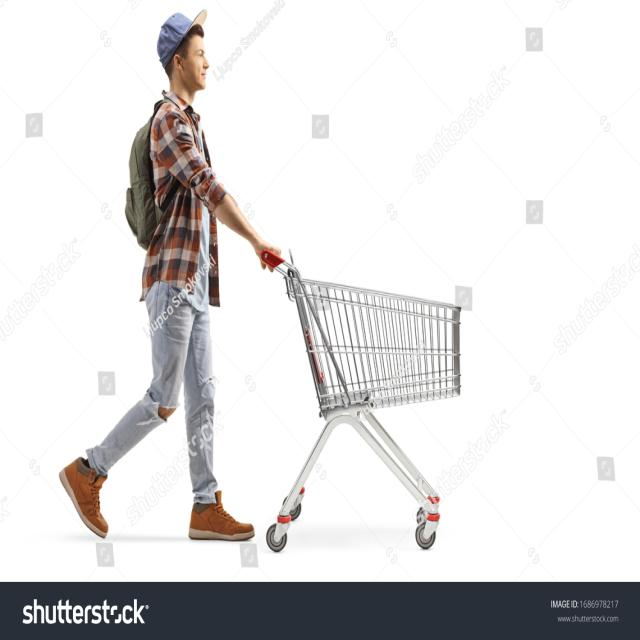Person: (59, 7, 280, 542)
